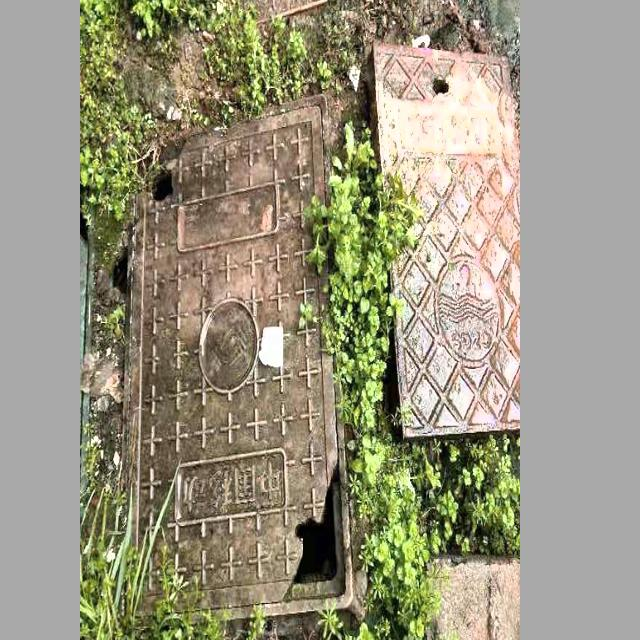broke: (129, 93, 353, 625)
